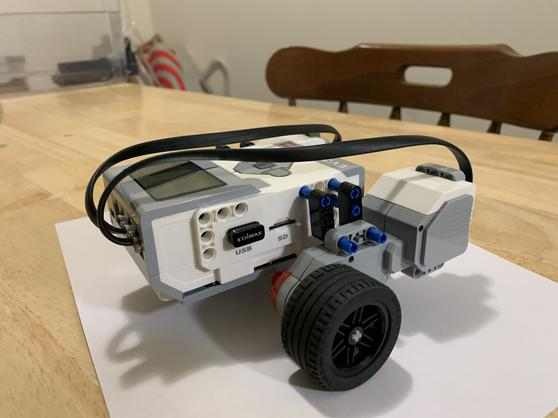robot: (80, 119, 481, 390)
